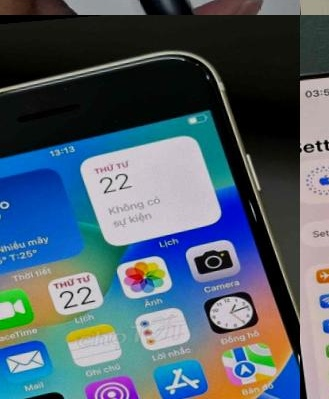scratch: (0, 71, 104, 93), (193, 53, 216, 77), (294, 353, 300, 385)
